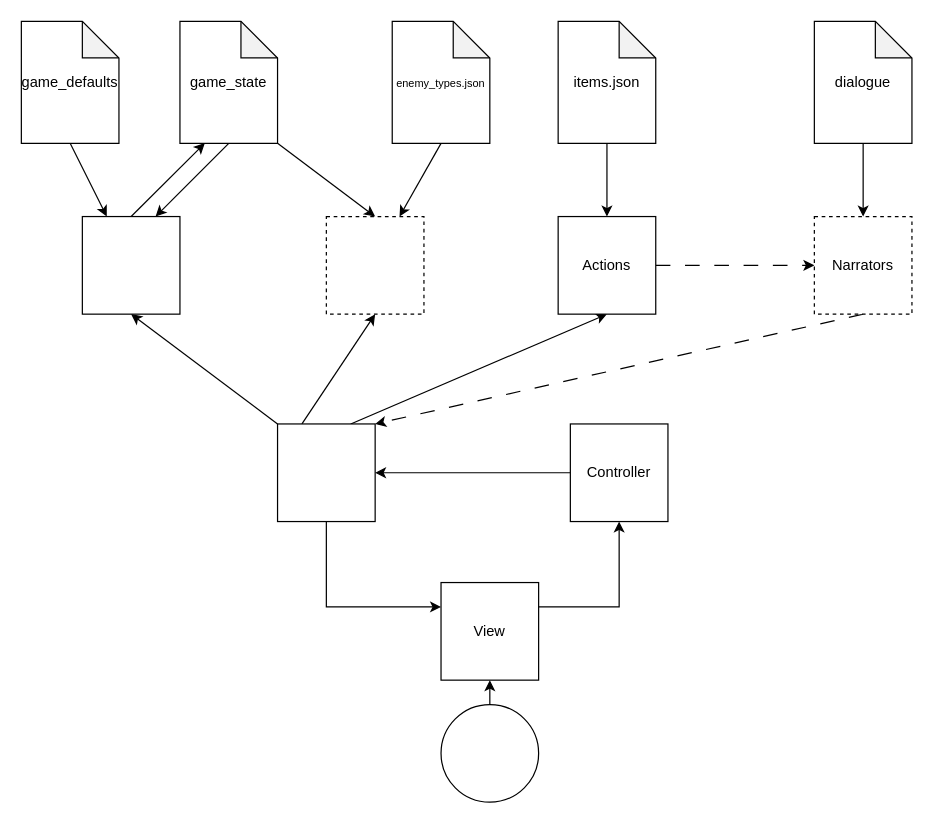
The diagram is 933 pixels wide and 824 high, and some of its shapes have lost their labels. Here are the shapes that lost their labels. From the top down, the box of each, then its label:
(81, 215, 180, 314): Game
(325, 215, 424, 314): Entities
(276, 423, 375, 522): Model
(440, 703, 539, 802): user
